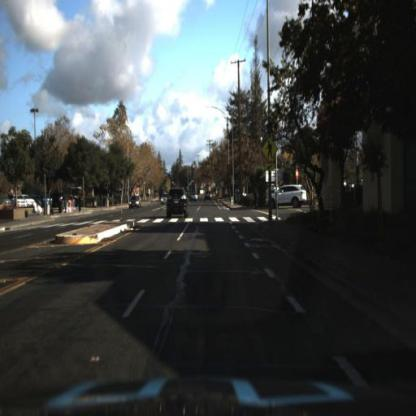car: (161, 179, 195, 226), (268, 186, 311, 211), (165, 189, 189, 223), (6, 192, 28, 213), (22, 191, 39, 207), (129, 194, 145, 208), (204, 189, 216, 205), (188, 191, 200, 204)
pedestrian: (253, 186, 261, 210), (77, 193, 84, 218)
